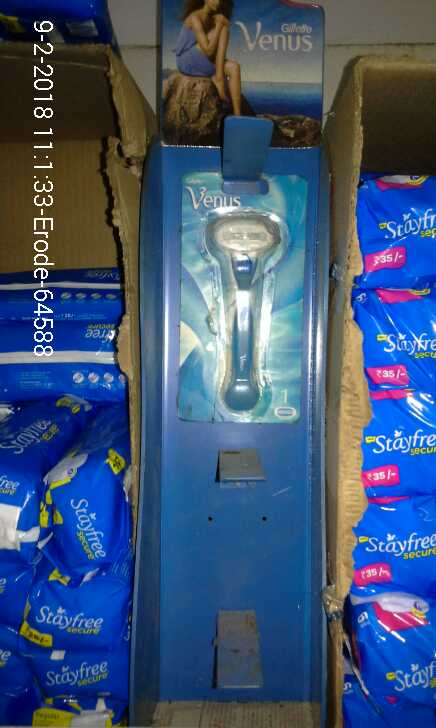venus: (182, 164, 304, 426)
